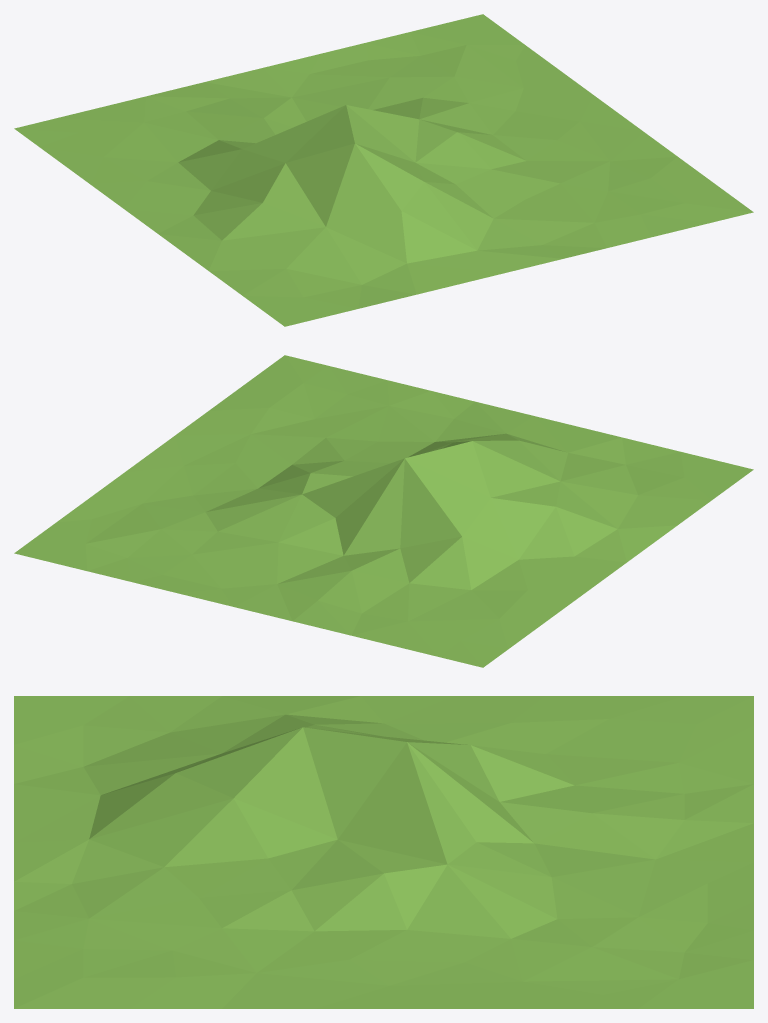
Rendered from MT_Terrain_S_a_14_LOD.fbx.
The picture shows the model from 3 angles, top to bottom: view 1: azimuth 30°, elevation 25°; view 2: azimuth 150°, elevation 25°; view 3: azimuth 270°, elevation 25°; orthographic projection. The views are drawn at different scales.
Visible parts, largest first — view 1: MT_Terrain_S_a_14_LOD0; view 2: MT_Terrain_S_a_14_LOD0; view 3: MT_Terrain_S_a_14_LOD0.
Part boxes in pixels (bbox=[...]): MT_Terrain_S_a_14_LOD0: bbox=[14, 14, 753, 326]; MT_Terrain_S_a_14_LOD0: bbox=[14, 355, 753, 667]; MT_Terrain_S_a_14_LOD0: bbox=[14, 696, 753, 1008].
Size of what is drawn, in the model's own units: 2500 by 347 by 2500.
